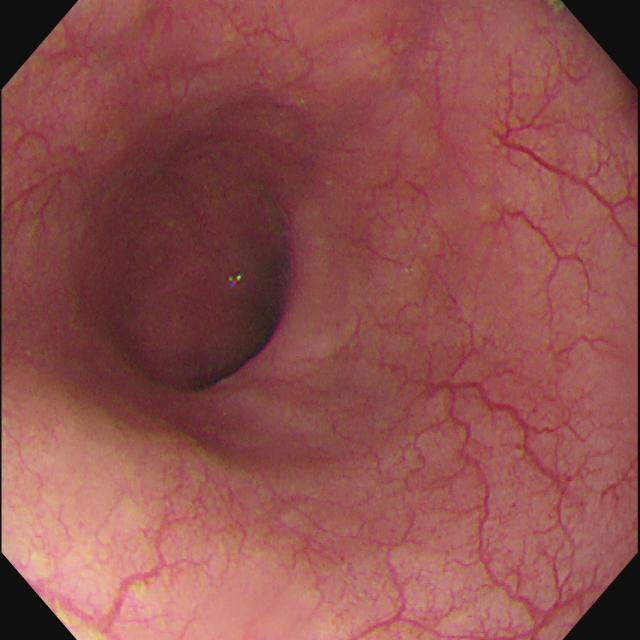E: (106, 152, 306, 407)
